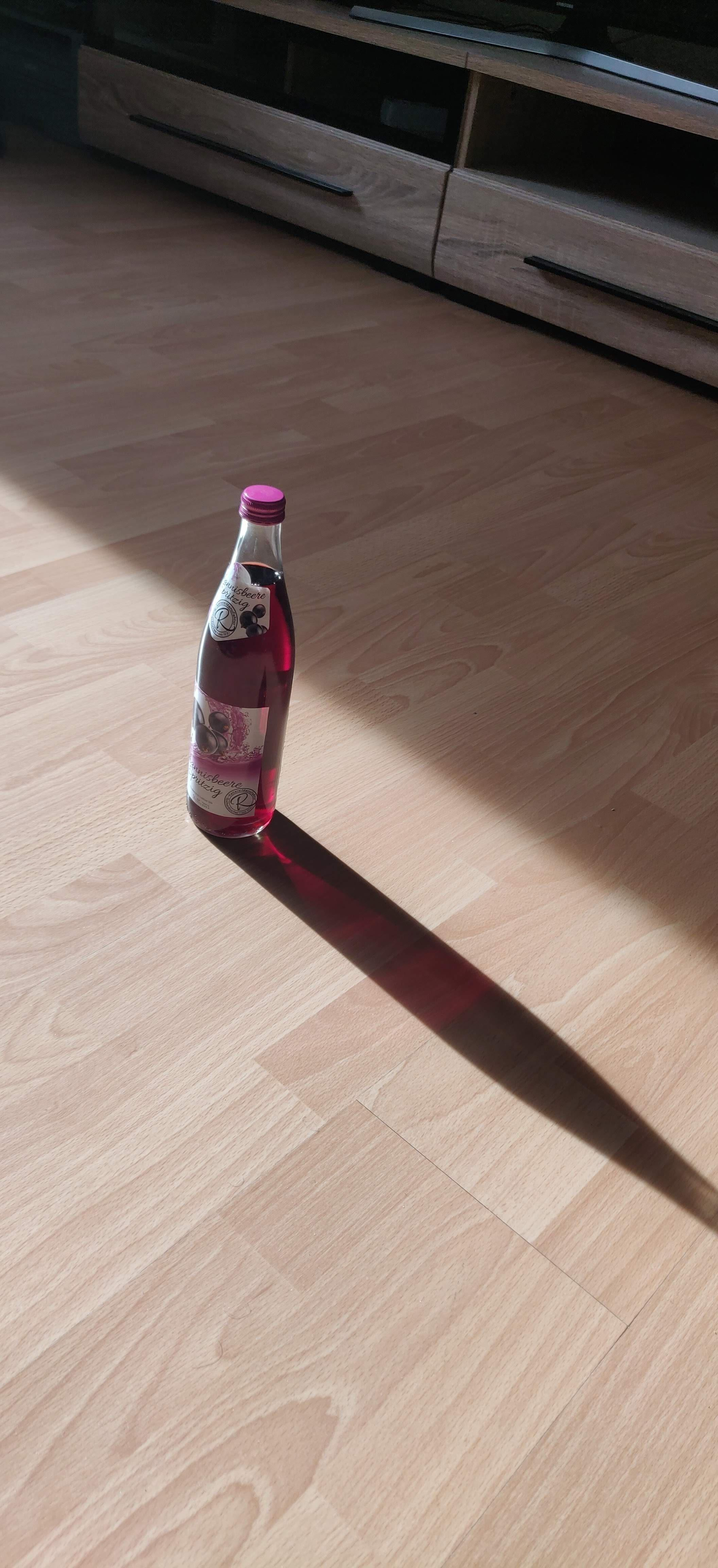bottle-glass: (188, 483, 302, 839)
